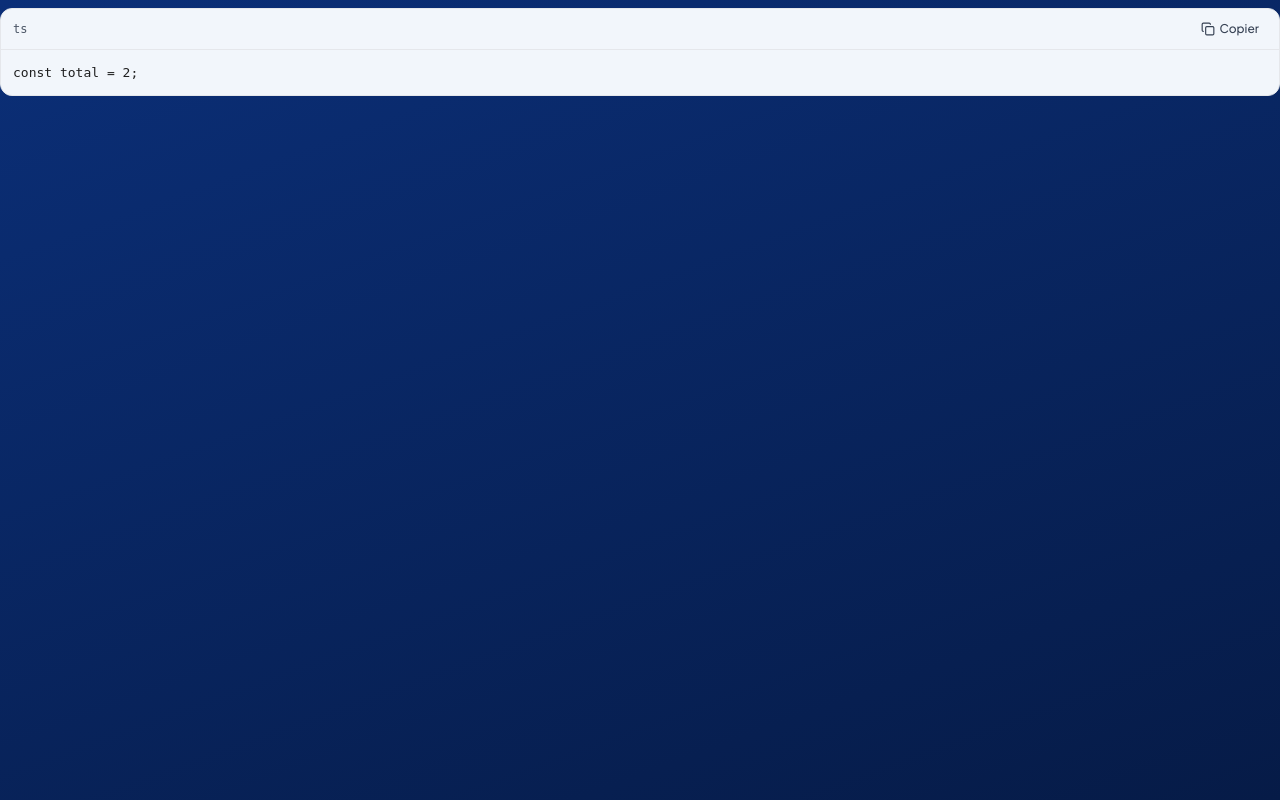
RichText › affiche un bloc de code avec son langage, le copie et l'annonce
Check: the text "ts" is shown, box x1=13 y1=20 x2=28 y2=38
Click the button with aria-label "Copier le code ts" at (1230, 29), box x1=1194 y1=13 x2=1267 y2=45
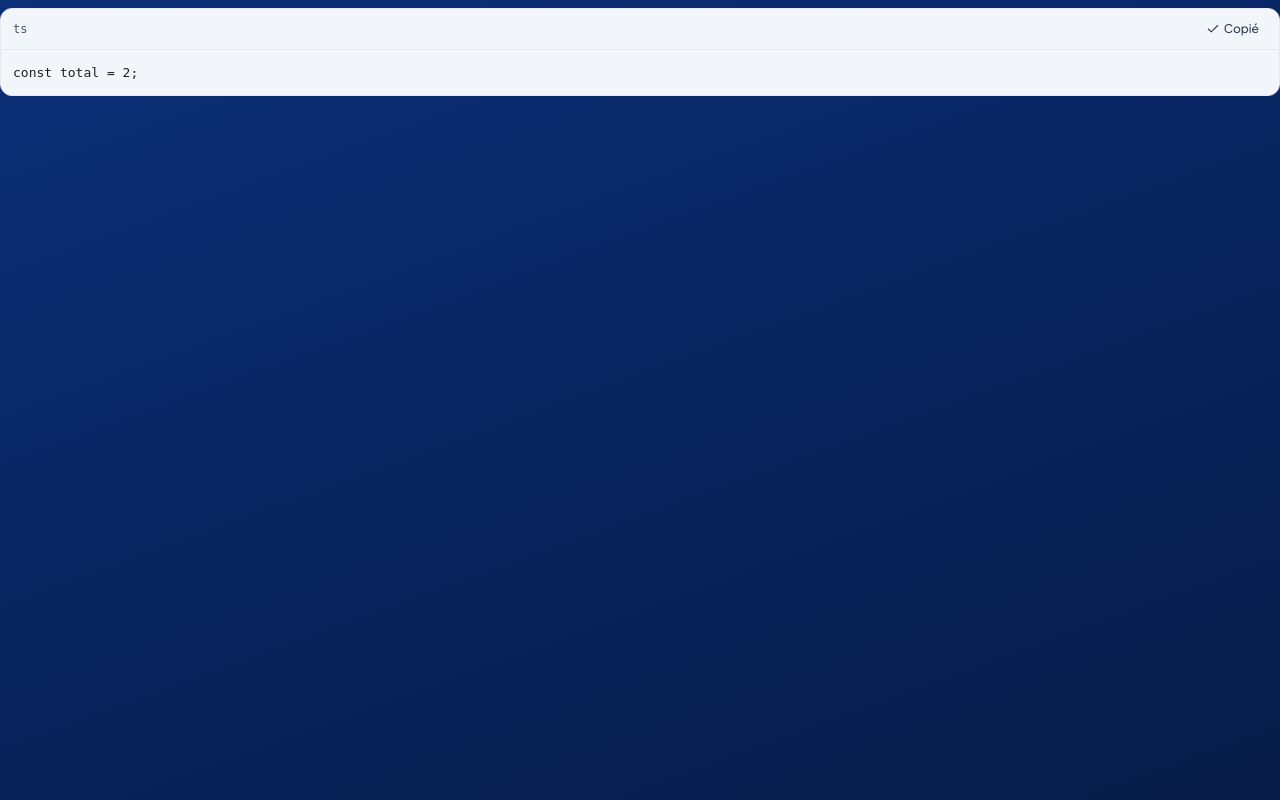
Check: the button with aria-label "Copier le code ts" reads "Copié", box x1=1198 y1=13 x2=1267 y2=45
